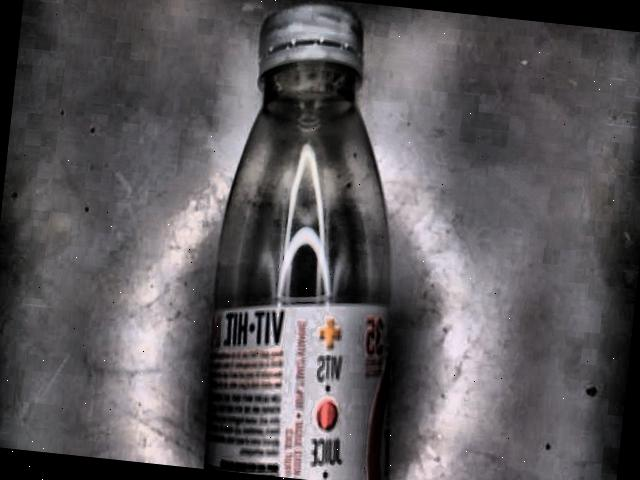Bottles: (202, 5, 395, 480)
